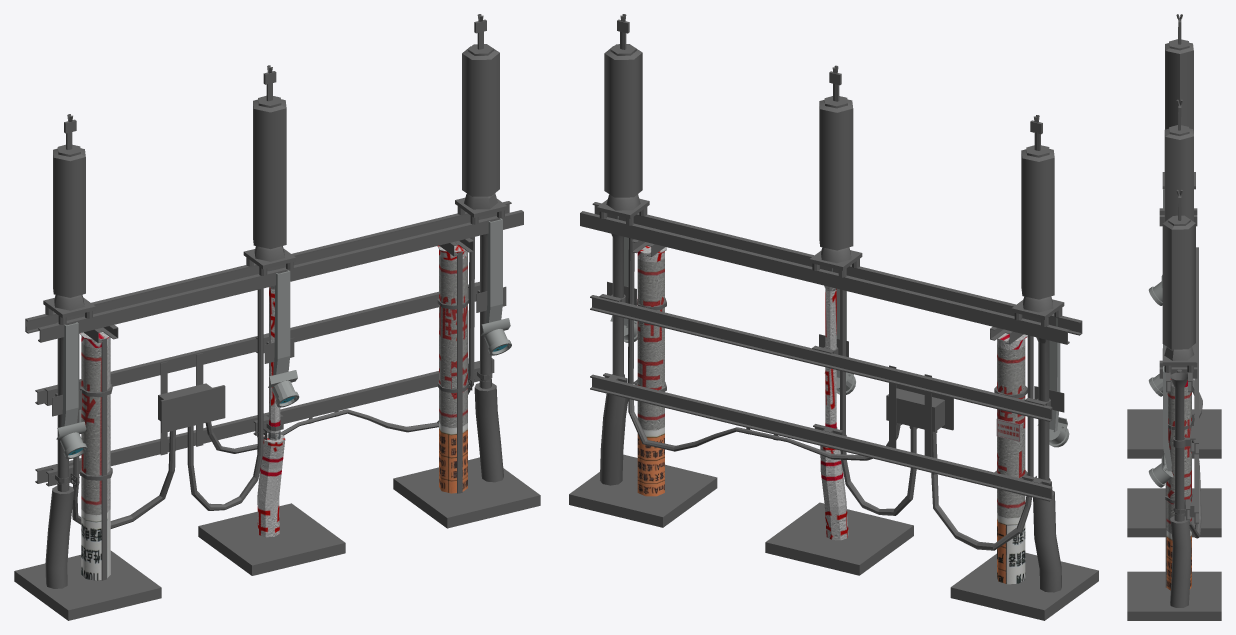
Rendered from xd-105xl-blq_new.FBX.
The picture shows the model from 3 angles, left to right: view 1: azimuth 30°, elevation 25°; view 2: azimuth 150°, elevation 25°; view 3: azimuth 270°, elevation 25°; orthographic projection. The views are drawn at different scales.
Parts seen in each view (by area): view 1: xd-105xl-blq, xd-105xl-blq-ganti, Mesh_Platform, 对象001, 对象005, 对象007, xd-105xl-blq-gan, 对象003, 对象004; view 2: xd-105xl-blq, 对象001, xd-105xl-blq-ganti, Mesh_Platform, 对象005, 对象007, 对象003, xd-105xl-blq-gan; view 3: xd-105xl-blq, Mesh_Platform, 对象007, xd-105xl-blq-ganti, 对象001, xd-105xl-blq-gan, 对象005, xd-105xl-blq-dianliubiao_03, xd-105xl-blq-dianliubiao_01, 对象006.
Boxes of the visible parts, x1,y1,x2,y2 form: xd-105xl-blq: (25,14,523,588); xd-105xl-blq-ganti: (79,245,467,580); Mesh_Platform: (14,457,540,620); 对象001: (35,281,494,486); 对象005: (69,237,474,528); 对象007: (198,503,345,575); xd-105xl-blq-gan: (56,218,510,439); 对象003: (257,270,285,537); 对象004: (268,270,297,387); xd-105xl-blq: (580,14,1082,592); 对象001: (590,294,1052,501); xd-105xl-blq-ganti: (637,245,1027,584); Mesh_Platform: (569,454,1098,620); 对象005: (628,238,1036,550); 对象007: (765,502,913,575); 对象003: (820,285,848,540); xd-105xl-blq-gan: (610,216,1067,432); xd-105xl-blq: (1159,14,1197,607); Mesh_Platform: (1127,409,1221,620); 对象007: (1127,488,1221,537); xd-105xl-blq-ganti: (1166,379,1191,590); 对象001: (1173,247,1198,523); xd-105xl-blq-gan: (1161,189,1171,474); 对象005: (1174,371,1202,538); xd-105xl-blq-dianliubiao_03: (1148,463,1173,487); xd-105xl-blq-dianliubiao_01: (1148,281,1162,305); 对象006: (1148,374,1162,396).
Size of the model in its own units: 414 by 390 by 80.
